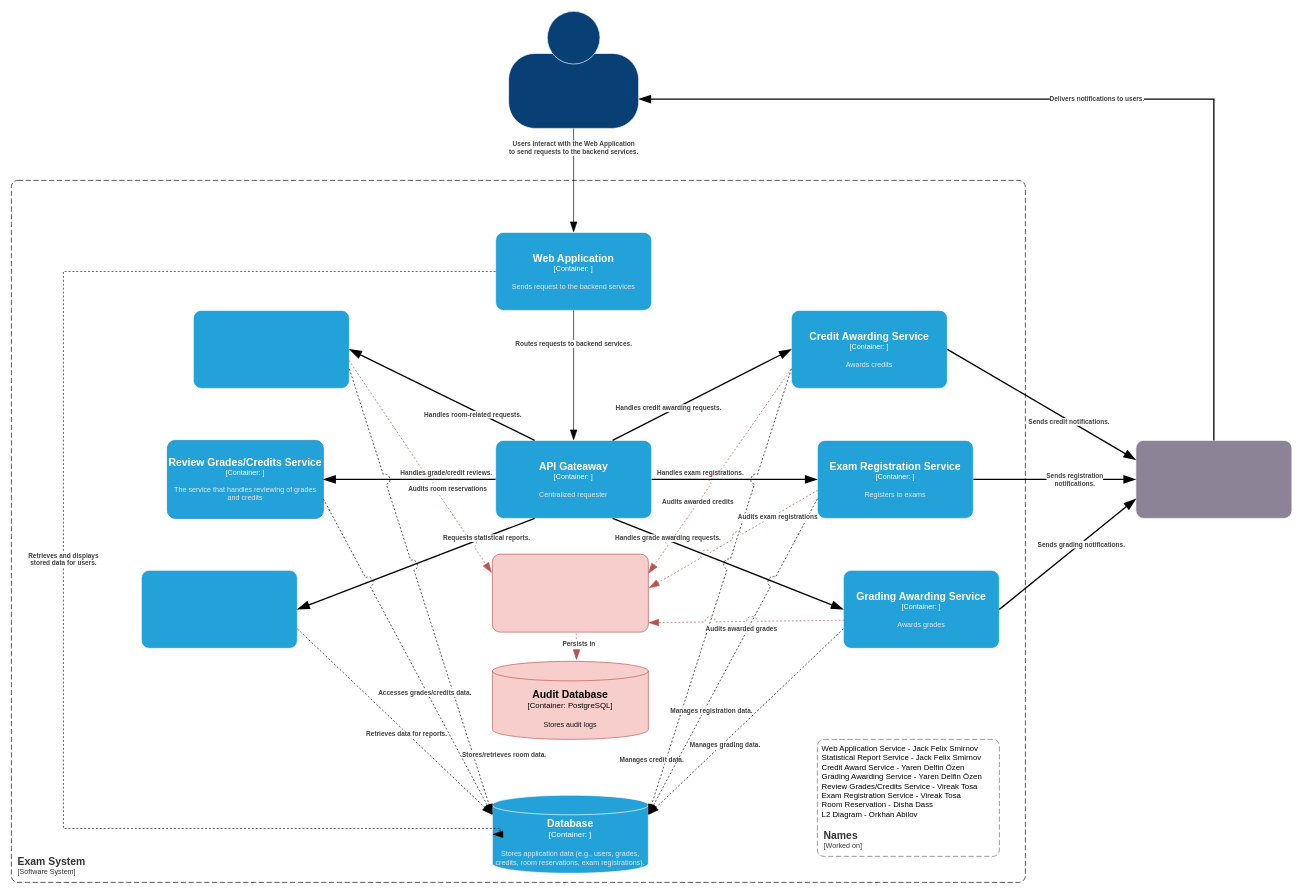
Some shapes in this 1303 by 894 pixel diagram are drawn without their labels. Each missing label, with the centre of its shape:
Auditing Service [Container: ] Stores and facilitates access to the audit trail: pixel 570 592
Notification Service [Software System] Sends Notifications: pixel 1213 479
Room Reservation Service [Container: ] Manages rooms: pixel 271 349
Statistical Report Service [Container: ] Provides statistical report: pixel 219 609
User [Person] Teacher, manager, student: pixel 573 69
